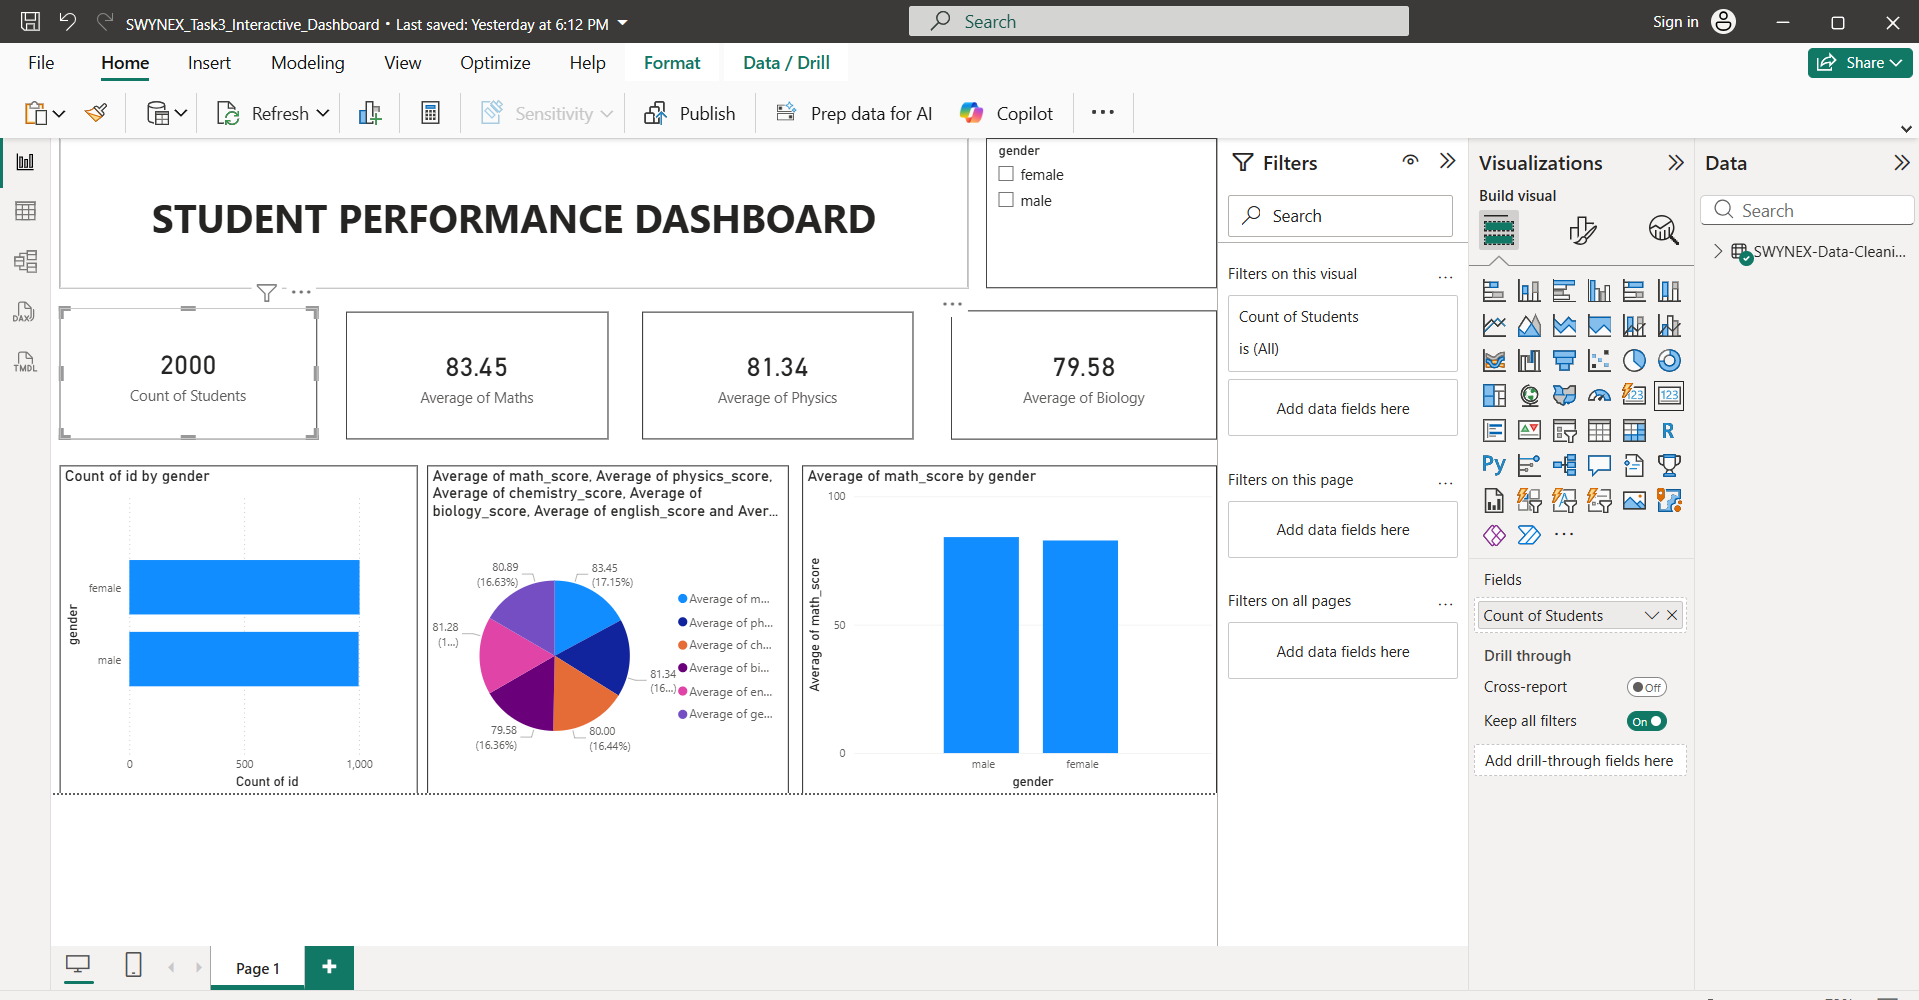

This screenshot's page, from the dashboard's own definition file:
{"tool":"powerbi","page":{"name":"Page 1","canvas":[1280,720],"ordinal":0},"visuals":[{"type":"card","fields":{"Values":["CountNonNull(SWYNEX-Data-Cleaning-Preparatio.id)"]},"box":[9.6,186.6,263.5,142.7],"z":0},{"type":"card","fields":{"Values":["Avg(SWYNEX-Data-Cleaning-Preparatio.math_score)"]},"box":[323.8,190.7,288.2,140],"z":1},{"type":"card","fields":{"Values":["Avg(SWYNEX-Data-Cleaning-Preparatio.physics_score)"]},"box":[649.1,190.7,297.8,140],"z":2},{"type":"card","fields":{"Values":["Avg(SWYNEX-Data-Cleaning-Preparatio.biology_score)"]},"box":[988,189.4,292.3,141.3],"z":3},{"type":"clusteredBarChart","fields":{"Category":["SWYNEX-Data-Cleaning-Preparatio.gender"],"Y":["CountNonNull(SWYNEX-Data-Cleaning-Preparatio.id)"]},"box":[9.6,359.5,392.5,360.9],"z":4},{"type":"pieChart","fields":{"Y":["Avg(SWYNEX-Data-Cleaning-Preparatio.math_score)","Avg(SWYNEX-Data-Cleaning-Preparatio.physics_score)","Avg(SWYNEX-Data-Cleaning-Preparatio.chemistry_score)","Avg(SWYNEX-Data-Cleaning-Preparatio.biology_score)","Avg(SWYNEX-Data-Cleaning-Preparatio.english_score)","Avg(SWYNEX-Data-Cleaning-Preparatio.geography_score)"]},"box":[413,359.5,396.6,360.9],"z":5},{"type":"clusteredColumnChart","fields":{"Category":["SWYNEX-Data-Cleaning-Preparatio.gender"],"Y":["Avg(SWYNEX-Data-Cleaning-Preparatio.math_score)"]},"box":[824.7,359.5,455.6,360.9],"z":6},{"type":"slicer","fields":{"Values":["SWYNEX-Data-Cleaning-Preparatio.gender"]},"box":[1026.4,12.3,253.9,152.3],"z":7},{"type":"textbox","box":[9.6,0,997.6,164.7],"z":8}]}

Visuals, with their boxes on the page's 1280x720 design canvas (x1, y1, x2, y2). These are canvas units, not pixel positions in the 1919x1000 screenshot, which may show the page scaled, cropped or inside an application window:
card - CountNonNull(SWYNEX-Data-Cleaning-Preparatio.id): left=10, top=187, right=273, bottom=329
card - Avg(SWYNEX-Data-Cleaning-Preparatio.math_score): left=324, top=191, right=612, bottom=331
card - Avg(SWYNEX-Data-Cleaning-Preparatio.physics_score): left=649, top=191, right=947, bottom=331
card - Avg(SWYNEX-Data-Cleaning-Preparatio.biology_score): left=988, top=189, right=1280, bottom=331
clusteredBarChart - SWYNEX-Data-Cleaning-Preparatio.gender x CountNonNull(SWYNEX-Data-Cleaning-Preparatio.id): left=10, top=360, right=402, bottom=720
pieChart - Avg(SWYNEX-Data-Cleaning-Preparatio.math_score) x Avg(SWYNEX-Data-Cleaning-Preparatio.physics_score): left=413, top=360, right=810, bottom=720
clusteredColumnChart - SWYNEX-Data-Cleaning-Preparatio.gender x Avg(SWYNEX-Data-Cleaning-Preparatio.math_score): left=825, top=360, right=1280, bottom=720
slicer - SWYNEX-Data-Cleaning-Preparatio.gender: left=1026, top=12, right=1280, bottom=165
textbox: left=10, top=0, right=1007, bottom=165
